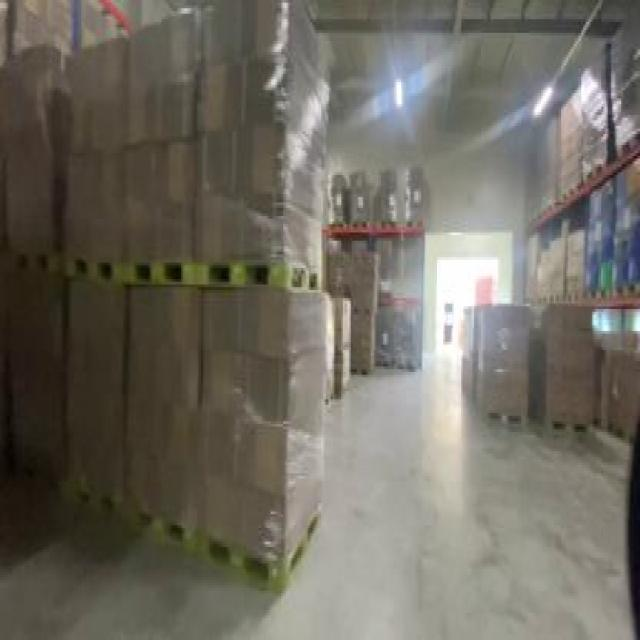box: (2, 3, 326, 591), (528, 49, 612, 194), (457, 295, 531, 427), (537, 296, 598, 438), (328, 244, 378, 378), (590, 322, 638, 448), (522, 216, 583, 301), (606, 11, 637, 145), (610, 153, 638, 290), (320, 284, 351, 400), (376, 298, 424, 372), (583, 186, 611, 301), (400, 164, 425, 224), (326, 167, 348, 227), (349, 170, 369, 232), (374, 235, 391, 298), (380, 167, 397, 221)
